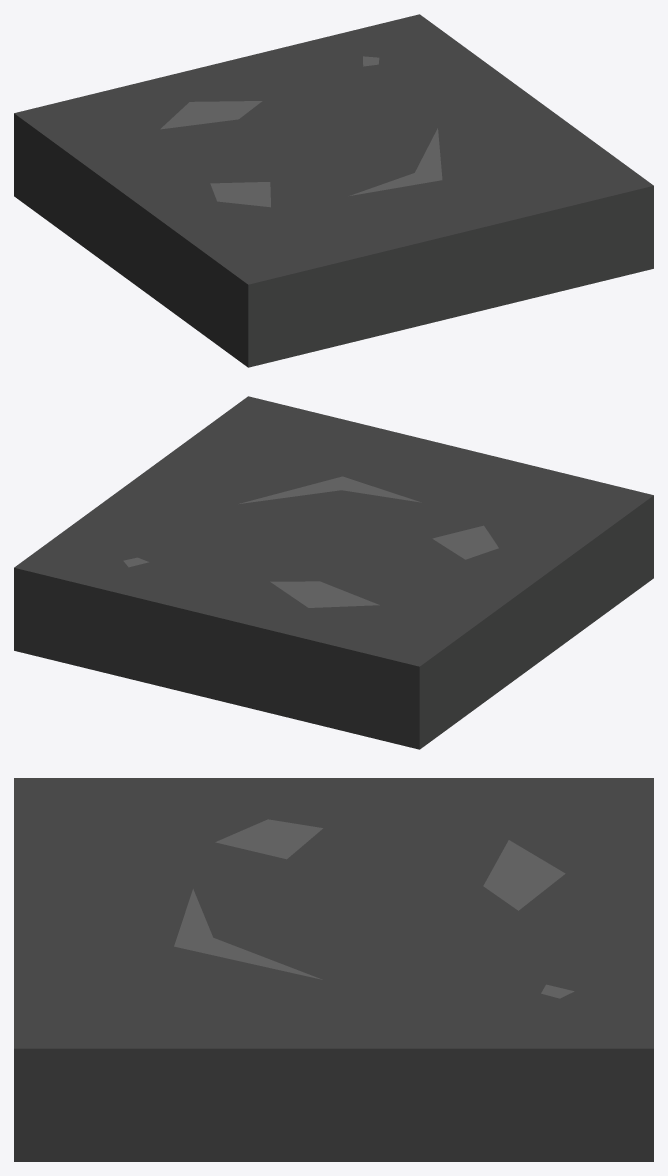
File: Ground_3_3.glb
The picture shows the model from 3 angles, top to bottom: view 1: azimuth 30°, elevation 25°; view 2: azimuth 150°, elevation 25°; view 3: azimuth 270°, elevation 25°; orthographic projection. The views are drawn at different scales.
Parts seen in each view (by area): view 1: Ground_3_3; view 2: Ground_3_3; view 3: Ground_3_3.
Boxes of the visible parts, <box> form: Ground_3_3: <box>14,14,653,367</box>; Ground_3_3: <box>14,396,653,749</box>; Ground_3_3: <box>14,778,653,1161</box>.
Bounding box in the file's own units: 2 × 0.3912 × 2.
1 material, 1 textured.
